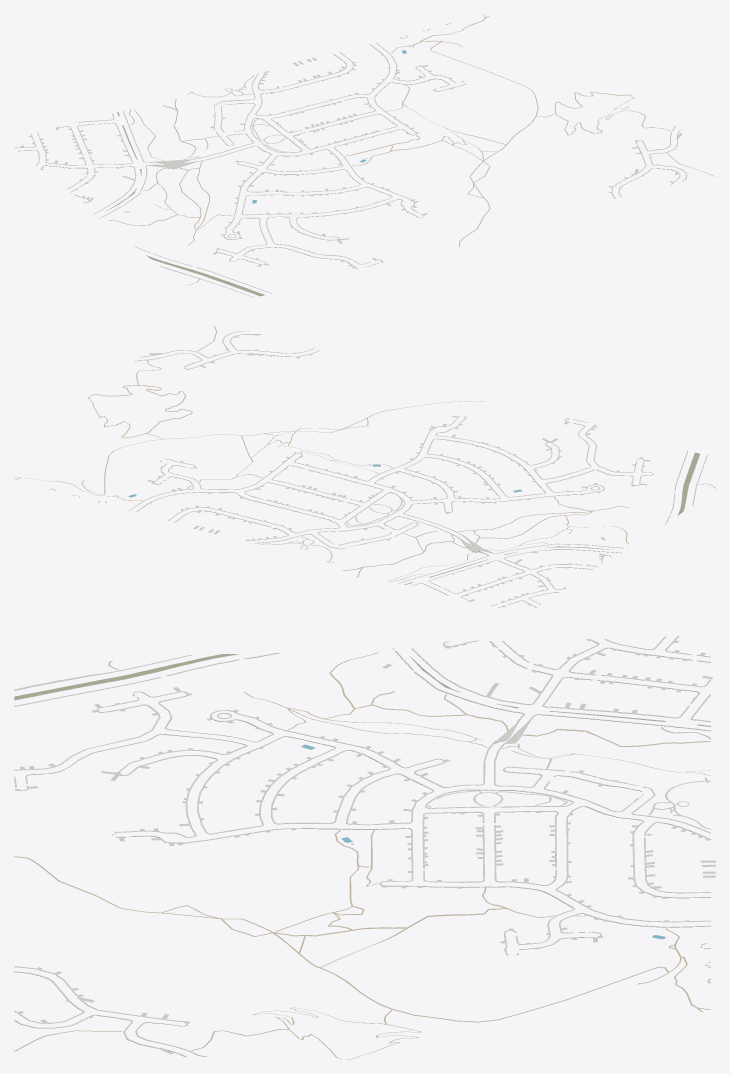
File: ground_r4_c2.glb
3 views of the same model, one above another, from view 1: azimuth 30°, elevation 25°; view 2: azimuth 150°, elevation 25°; view 3: azimuth 270°, elevation 25° (orthographic). The views are drawn at different scales.
Visible parts, largest first — view 1: sidewalks, paths, driveways, medians; view 2: sidewalks, paths, driveways, medians; view 3: sidewalks, paths, driveways, medians.
Part boxes in pixels (box(x1,y1,x2,y2)): sidewalks: box(14, 22, 687, 297); paths: box(108, 14, 715, 285); driveways: box(21, 29, 682, 268); medians: box(108, 112, 264, 296); sidewalks: box(49, 331, 707, 607); paths: box(14, 326, 715, 581); driveways: box(73, 334, 649, 607); medians: box(405, 452, 699, 584); sidewalks: box(14, 636, 710, 1057); paths: box(14, 651, 710, 1059); driveways: box(15, 639, 715, 1054); medians: box(14, 654, 710, 726).
Size of the model in its own units: 1128 by 48.55 by 793.
